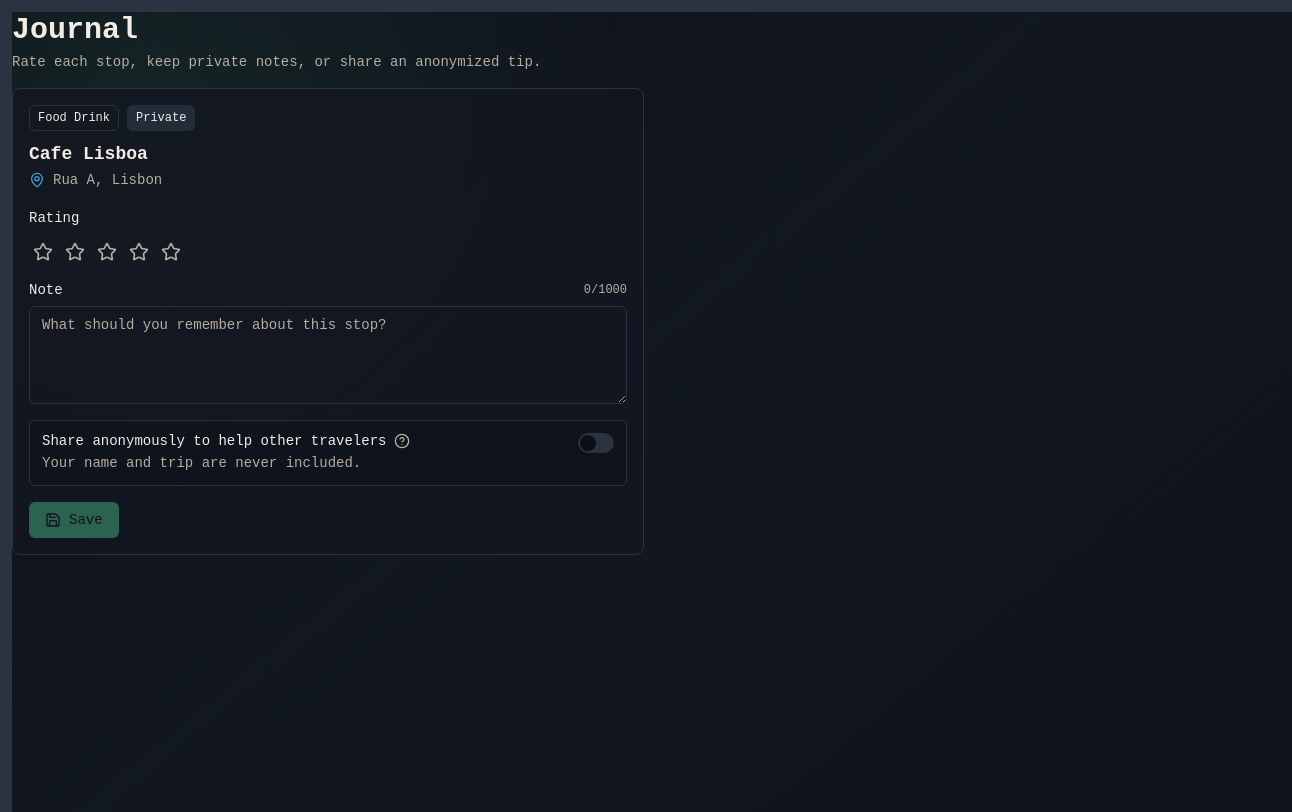
Test: JournalSection › requires a rating before sharing
The width and height of the screenshot is (1292, 812).
Click the switch named "Share anonymously to help other travelers".
click(596, 442)  # box [578,432,614,452]
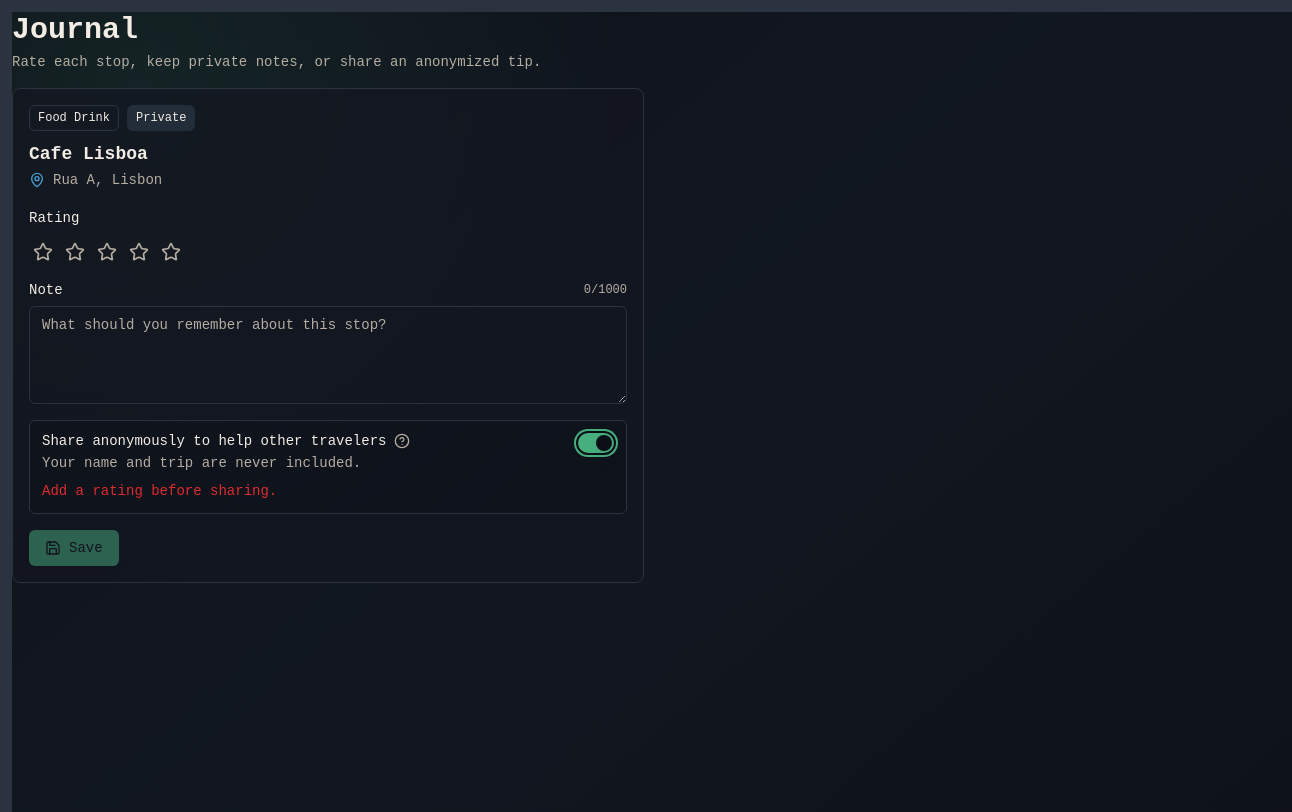
Expected: the button "Save" is disabled, [29,530,119,566]
Expected: the text "Add a rating before sharing." is shown, [42,482,277,498]
